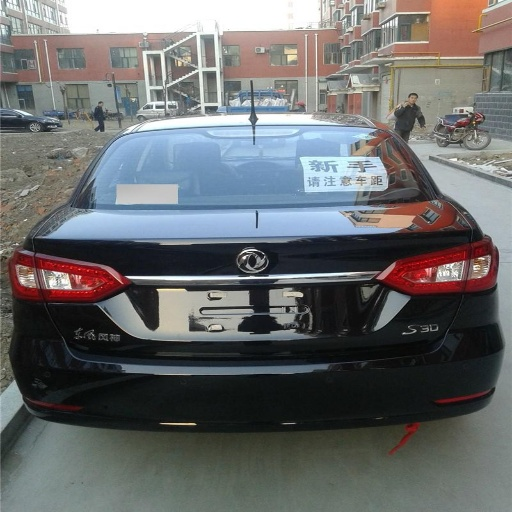back_bumper: (350, 287, 510, 432), (10, 301, 180, 428)
tailgate: (86, 199, 466, 352), (35, 230, 74, 307), (151, 251, 227, 274)
